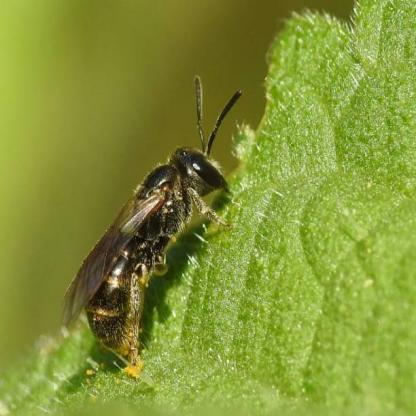sawfly: (57, 75, 246, 367)
